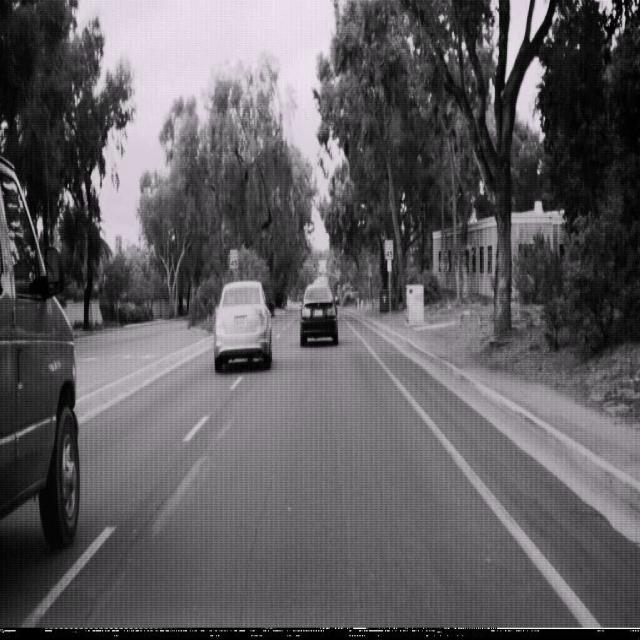speedLimit45: (384, 238, 394, 260), (230, 248, 238, 270)
